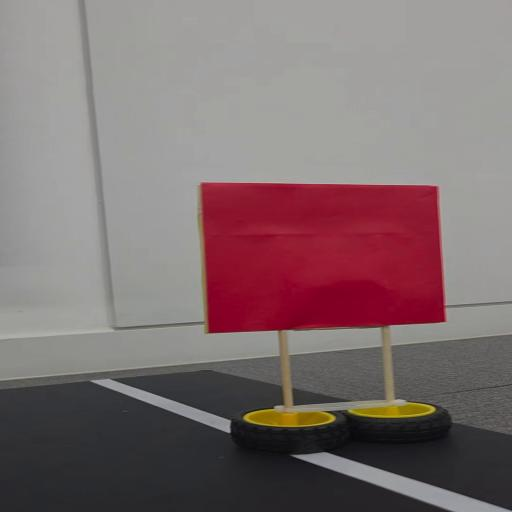Sign_A: (196, 181, 467, 453)
